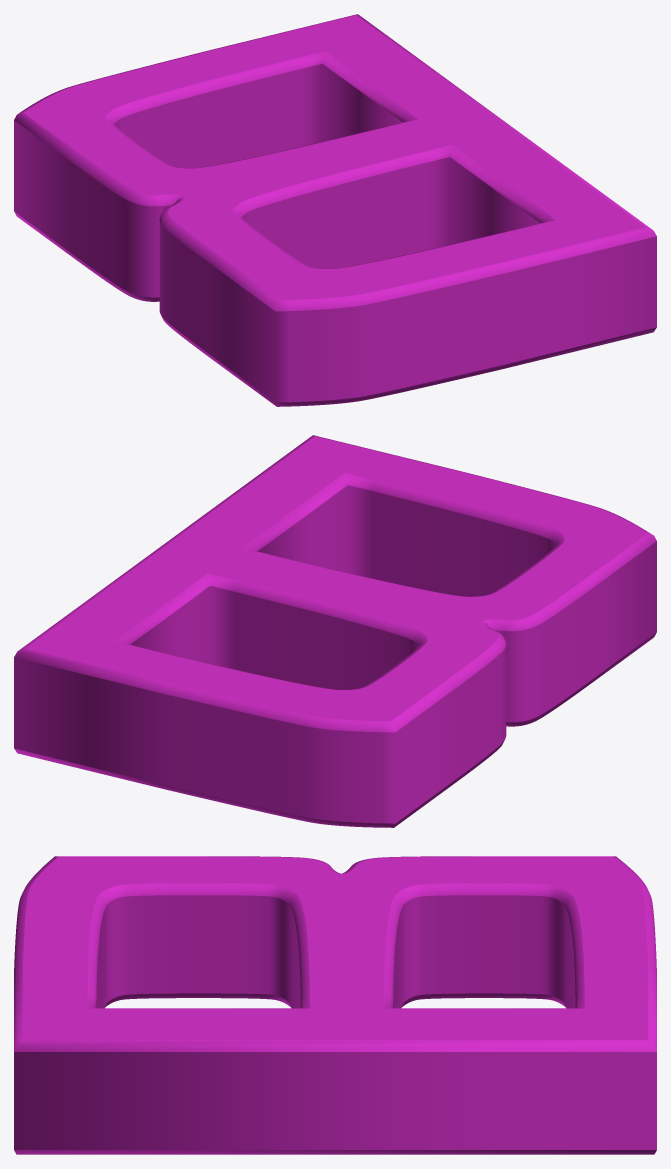
The model's file is Letter_B_Capital_CoolFont.fbx.
3 views of the same model, one above another, from view 1: azimuth 30°, elevation 25°; view 2: azimuth 150°, elevation 25°; view 3: azimuth 270°, elevation 25° (orthographic). The views are drawn at different scales.
Parts seen in each view (by area): view 1: Letter_B; view 2: Letter_B; view 3: Letter_B.
Boxes of the visible parts, x1,y1,x2,y2 form: Letter_B: (14, 14, 656, 406); Letter_B: (14, 435, 656, 827); Letter_B: (14, 856, 656, 1154).
Bounding box in the file's own units: 0.5007 × 0.14 × 0.712.
